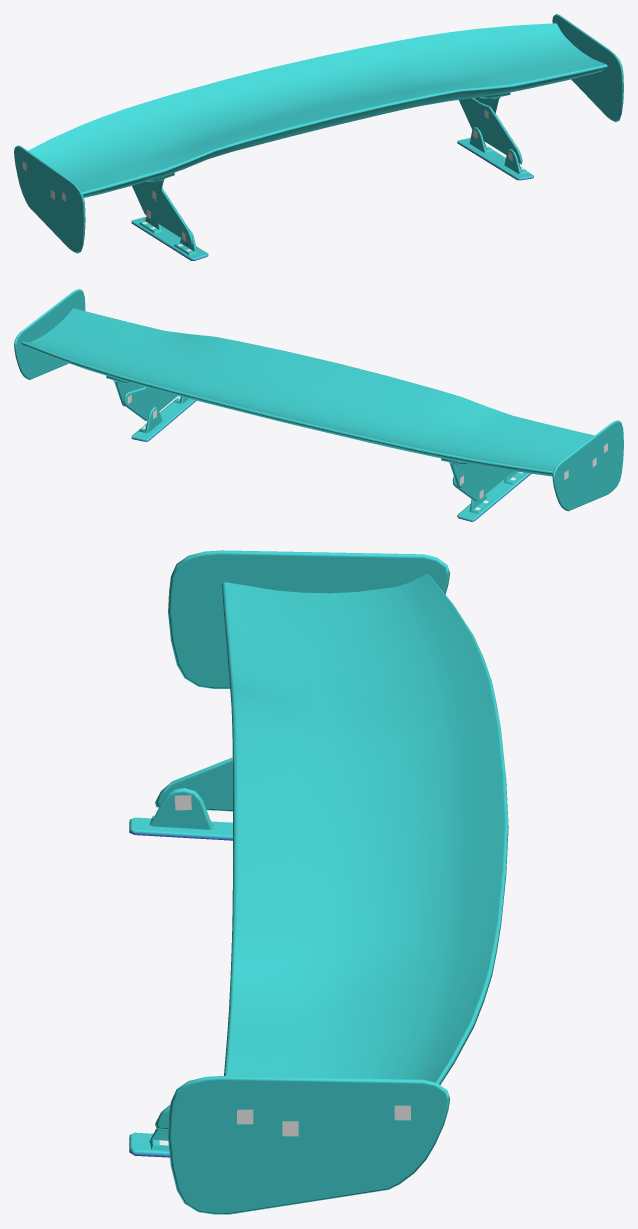
The model's file is Car_Nissan_SkylineGTRVspecR34_1999_Spoiler_SetDI.fbx.
3 renders of one model, top to bottom at view 1: azimuth 30°, elevation 25°; view 2: azimuth 150°, elevation 25°; view 3: azimuth 270°, elevation 25°, orthographic. The views are drawn at different scales.
Visible parts, largest first — view 1: Spoiler 6; view 2: Spoiler 6; view 3: Spoiler 6.
Boxes of the visible parts, x1,y1,x2,y2 form: Spoiler 6: (14,14,623,260); Spoiler 6: (14,289,623,521); Spoiler 6: (129,550,508,1214).
Size of the model in its own units: 1.63 by 0.2693 by 0.4939.
